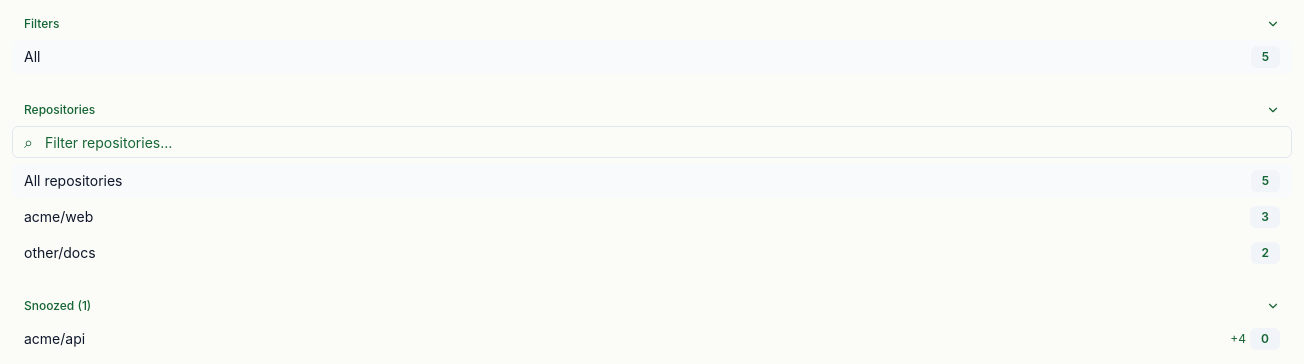
Test: FilterSidebar repository search › scope qualifiers are stripped: the box already lists only repos
Type "repo:web" into the search field labelled "Filter repositories" at (652, 142), box top-left (12, 126), bottom-right (1292, 158)
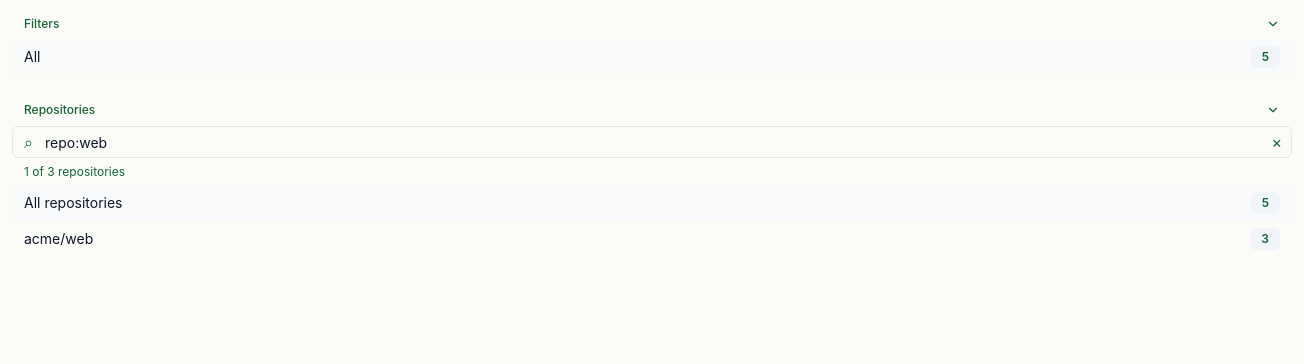
Expected: the button with aria-label "Filter by acme/web" is shown, top-left (12, 222), bottom-right (1292, 256)
Now the text "Filter by other/docs" is gone
